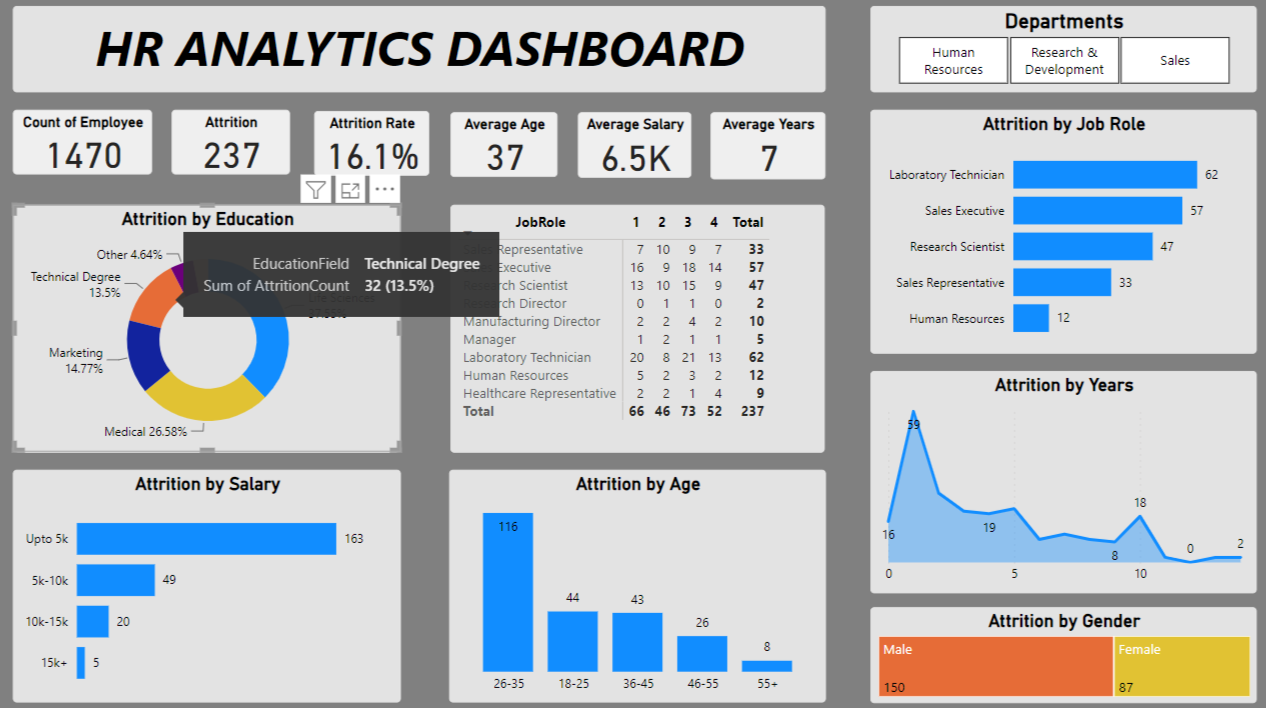

Layout of this report page (visuals, bound fields, positions):
{"tool":"powerbi","page":{"name":"Page 1","canvas":[1280,720],"ordinal":0},"visuals":[{"type":"card","title":"Count of Employee","fields":{"Values":["CountNonNull(HR_Analytics.EmpID)"]},"box":[17,113.8,139.4,64.9],"z":0},{"type":"card","title":"Attrition","fields":{"Values":["Sum(HR_Analytics.AttritionCount)"]},"box":[176.6,113.8,118.1,64.9],"z":1000},{"type":"card","title":"Attrition Rate","fields":{"Values":["HR_Analytics.AttritionRate"]},"box":[319.1,114.9,114.9,64.9],"z":2000},{"type":"card","title":"Average Age ","fields":{"Values":["Avg(HR_Analytics.Age)"]},"box":[455.3,116,107.4,64.9],"z":3000},{"type":"card","title":"Average Salary","fields":{"Values":["Avg(HR_Analytics.MonthlyIncome)"]},"box":[583,116,113.8,66],"z":4000},{"type":"card","title":"Average Years ","fields":{"Values":["Avg(HR_Analytics.YearsAtCompany)"]},"box":[714.9,116,114.9,67],"z":5000},{"type":"donutChart","title":"Attrition by Education","fields":{"Category":["HR_Analytics.EducationField"],"Y":["Sum(HR_Analytics.AttritionCount)"]},"box":[17,208.5,388.3,247.9],"z":6000},{"type":"columnChart","title":"Attrition by Age","fields":{"Category":["HR_Analytics.AgeGroup"],"Y":["Sum(HR_Analytics.AttritionCount)"]},"box":[453.2,473.4,376.6,233],"z":7000},{"type":"pivotTable","fields":{"Rows":["HR_Analytics.JobRole"],"Columns":["HR_Analytics.JobSatisfaction"],"Values":["Sum(HR_Analytics.AttritionCount)"]},"box":[455.3,208.5,374.5,247.9],"z":8000},{"type":"barChart","title":"Attrition by Salary","fields":{"Category":["HR_Analytics.SalarySlab"],"Y":["Sum(HR_Analytics.AttritionCount)"]},"box":[17,473.4,388.3,233],"z":9000},{"type":"barChart","title":"Attrition by Job Role","fields":{"Category":["HR_Analytics.JobRole"],"Y":["Sum(HR_Analytics.AttritionCount)"]},"box":[875.5,113.8,386.2,243.6],"z":10000},{"type":"areaChart","title":"Attrition by Years","fields":{"Category":["HR_Analytics.YearsAtCompany"],"Y":["Sum(HR_Analytics.AttritionCount)"]},"box":[875,375,386.2,222.5],"z":11000},{"type":"treemap","title":"Attrition by Gender","fields":{"Group":["HR_Analytics.Gender"],"Values":["Sum(HR_Analytics.AttritionCount)"]},"box":[875.5,610.6,386.2,95.7],"z":12000},{"type":"slicer","title":"Departments","fields":{"Values":["HR_Analytics.Department"]},"box":[875.5,9.6,386.2,86.2],"z":13000},{"type":"textbox","box":[17,9.6,812.8,86.2],"z":14000}]}

Visuals, with their boxes in screenshot pixels (x1, y1, x2, y2), scaled from the page's 1280x720 canvas onto the 1266x708 screenshot:
"Count of Employee" card: {"left": 17, "top": 112, "right": 155, "bottom": 176}
"Attrition" card: {"left": 175, "top": 112, "right": 291, "bottom": 176}
"Attrition Rate" card: {"left": 316, "top": 113, "right": 429, "bottom": 177}
"Average Age " card: {"left": 450, "top": 114, "right": 557, "bottom": 178}
"Average Salary" card: {"left": 577, "top": 114, "right": 689, "bottom": 179}
"Average Years " card: {"left": 707, "top": 114, "right": 821, "bottom": 180}
"Attrition by Education" donutChart: {"left": 17, "top": 205, "right": 401, "bottom": 449}
"Attrition by Age" columnChart: {"left": 448, "top": 466, "right": 821, "bottom": 695}
pivotTable - HR_Analytics.JobRole x HR_Analytics.JobSatisfaction: {"left": 450, "top": 205, "right": 821, "bottom": 449}
"Attrition by Salary" barChart: {"left": 17, "top": 466, "right": 401, "bottom": 695}
"Attrition by Job Role" barChart: {"left": 866, "top": 112, "right": 1248, "bottom": 351}
"Attrition by Years" areaChart: {"left": 865, "top": 369, "right": 1247, "bottom": 588}
"Attrition by Gender" treemap: {"left": 866, "top": 600, "right": 1248, "bottom": 695}
"Departments" slicer: {"left": 866, "top": 9, "right": 1248, "bottom": 94}
textbox: {"left": 17, "top": 9, "right": 821, "bottom": 94}
